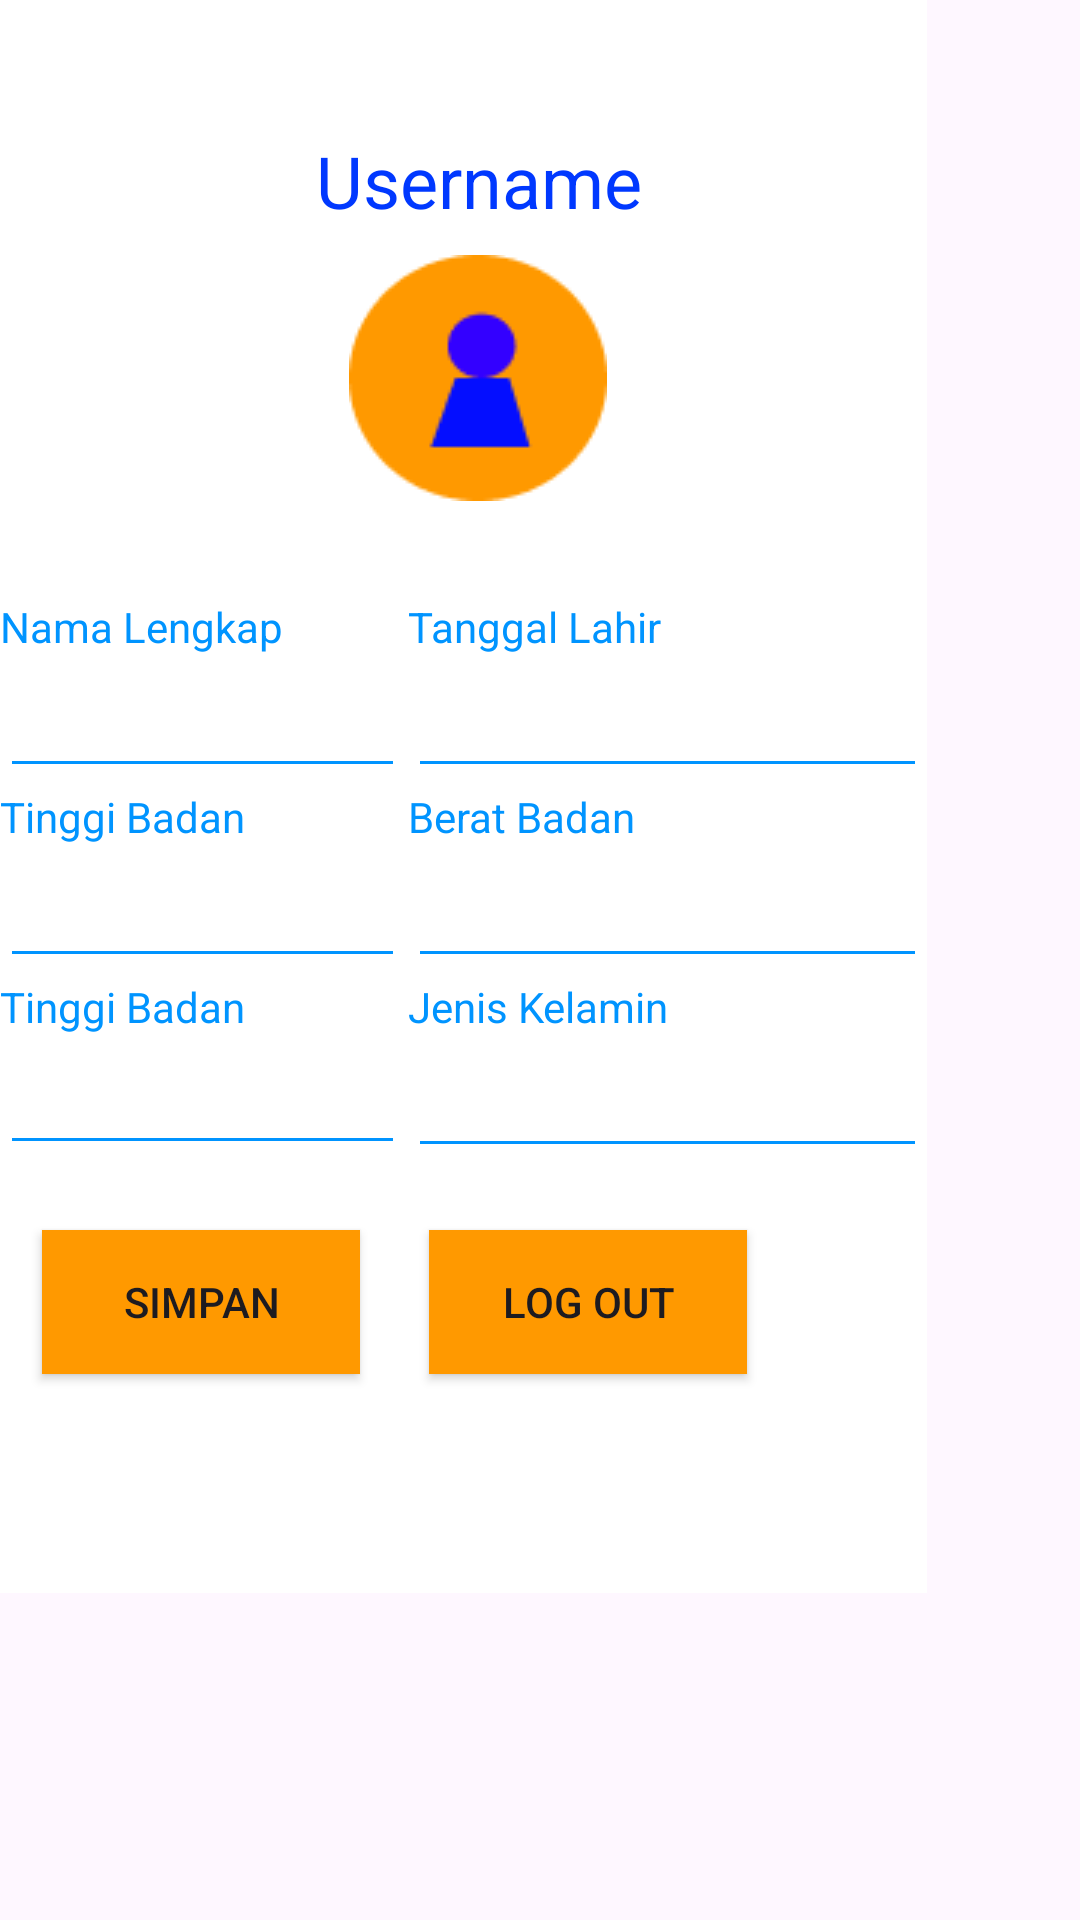

Named icons in this screenshot (1080×1920) and their centers, [x,y]:
pc profile: [478,378]
